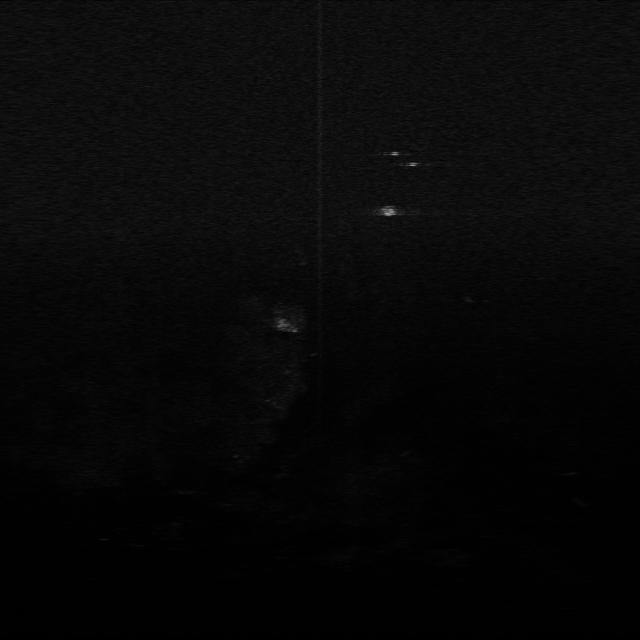rov: (373, 200, 402, 220)
